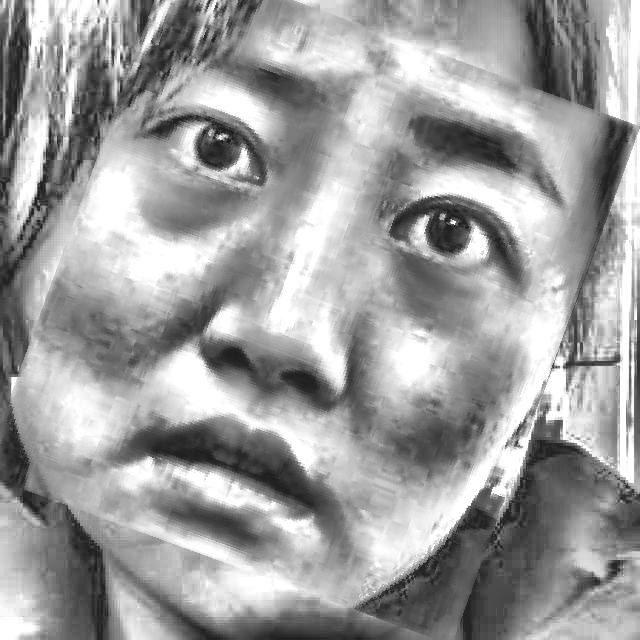fear: (21, 0, 600, 611)
